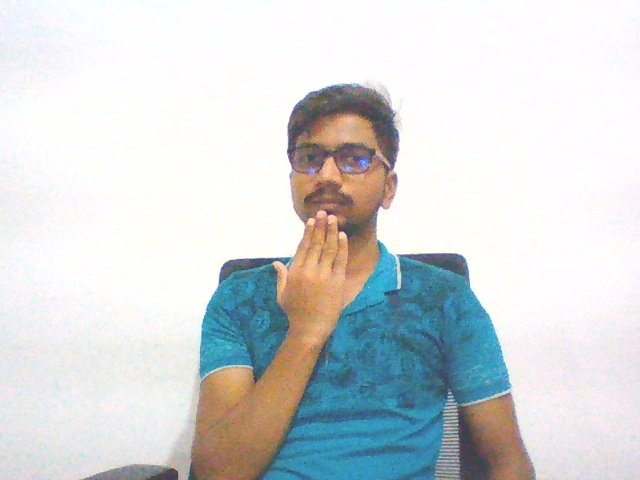mango: (264, 193, 356, 361)
